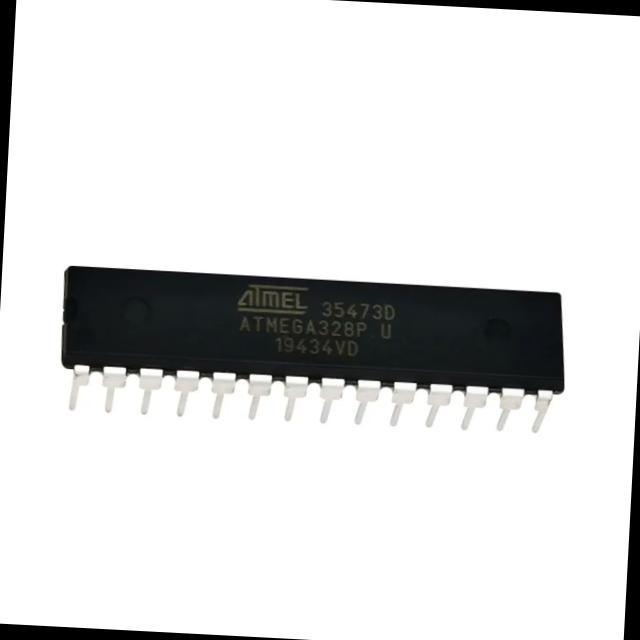atmega: (54, 262, 572, 440)
